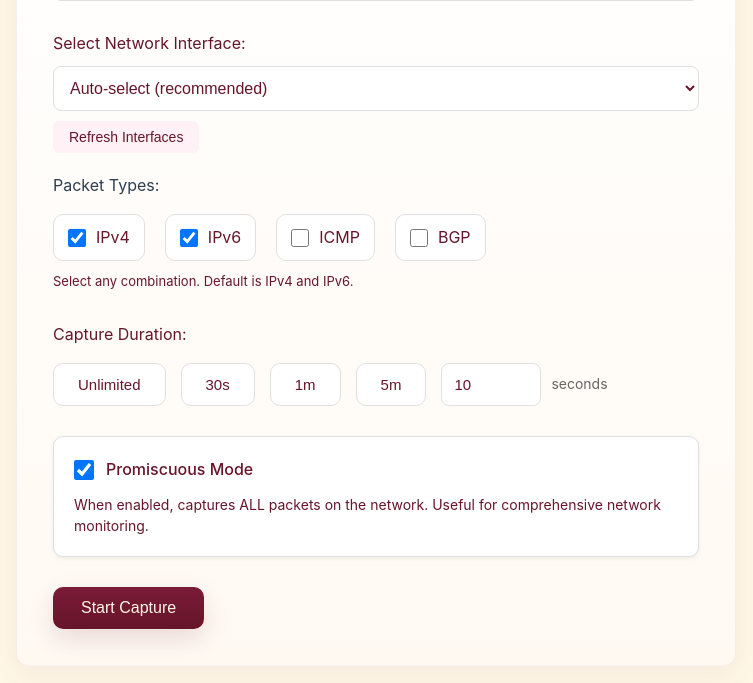
Test: Home Component › displays download button after successful capture
(page scrolled)
Click the button "Start Capture". click: (129, 608)
box: [53,587,204,629]
(page scrolled)
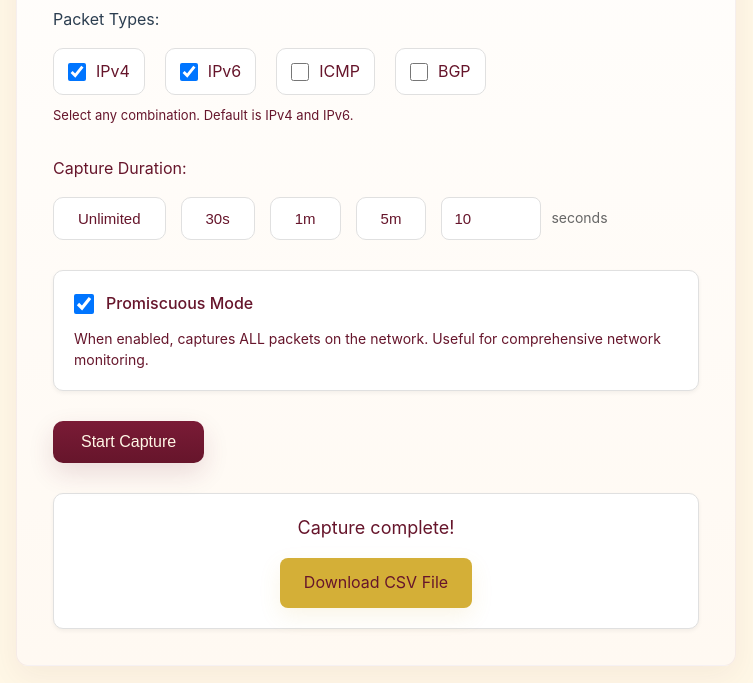
expect the link "Download CSV File" is shown: met, box [280,558,472,608]
